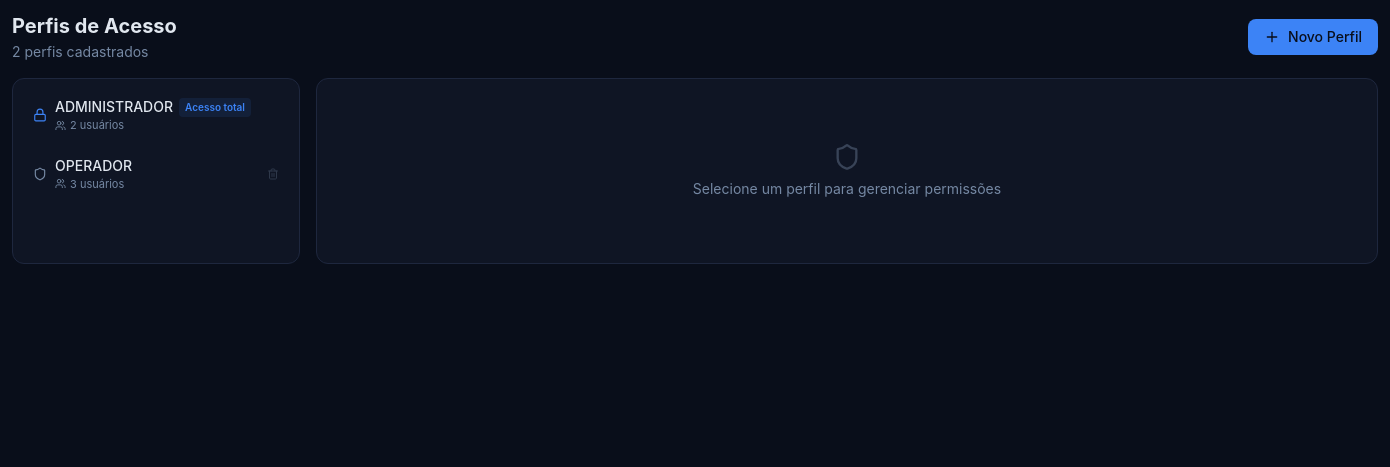
it: PerfisAcessoPage › ocultar um menu marca pendência, atualiza a prévia e salva o menu oculto
Later steps or results of the test are not shown.
Click the text "OPERADOR". click: (94, 166)
box: [55, 156, 132, 176]
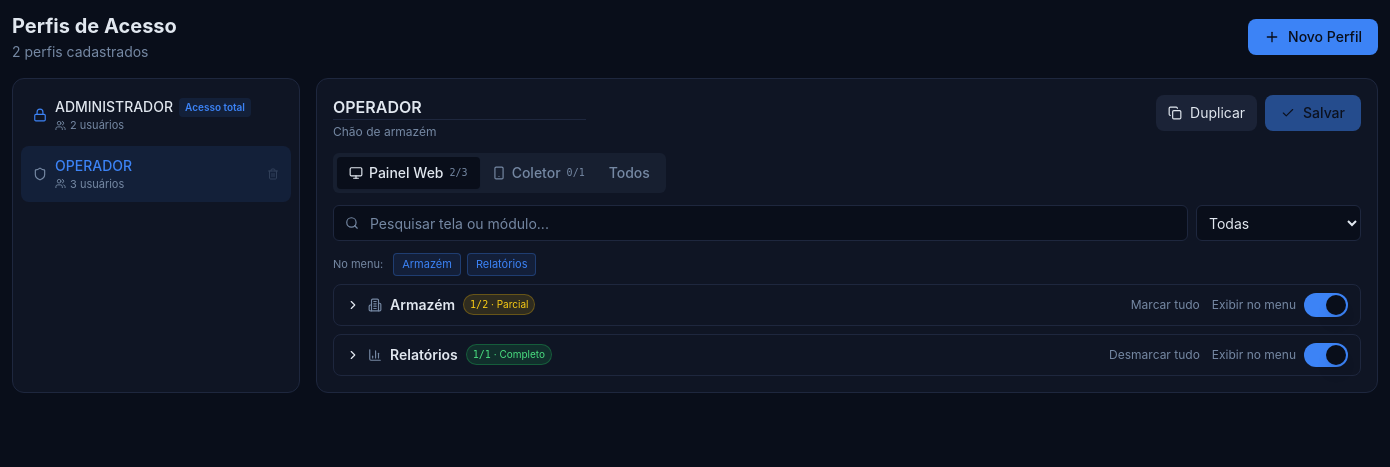
Expected: the text "No menu:" is shown, [333, 256, 383, 272]
Click the switch named "Exibir o menu Relatórios no TopNav". click: (1326, 354)
box: [1304, 342, 1348, 366]
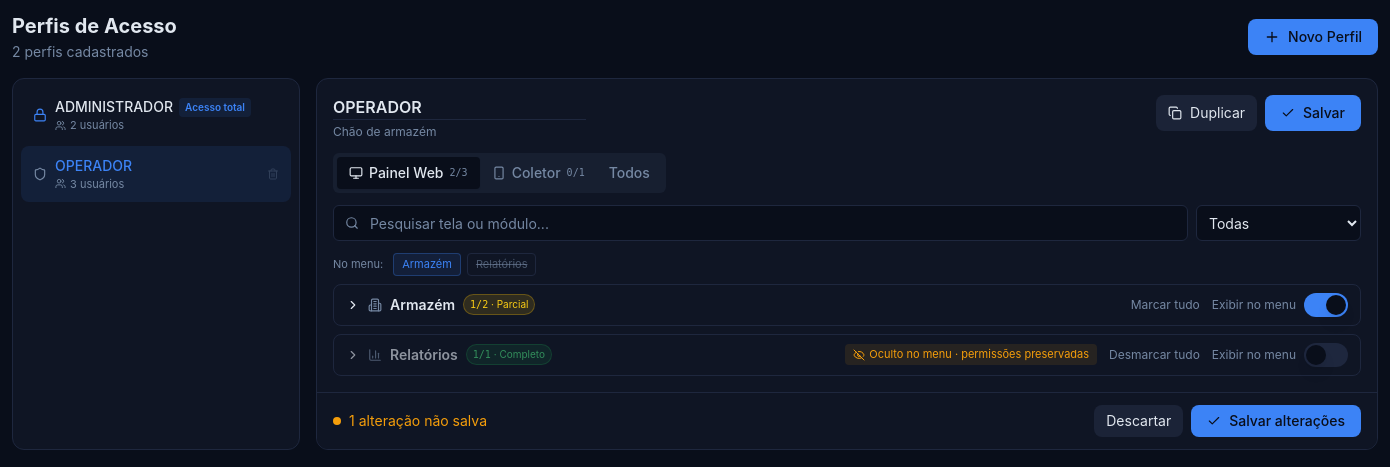
Expected: the text "1 alteração não salva" is shown, [333, 410, 487, 430]
